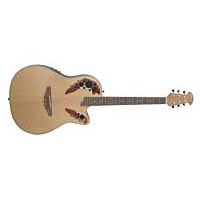guitar: (8, 64, 195, 136)
